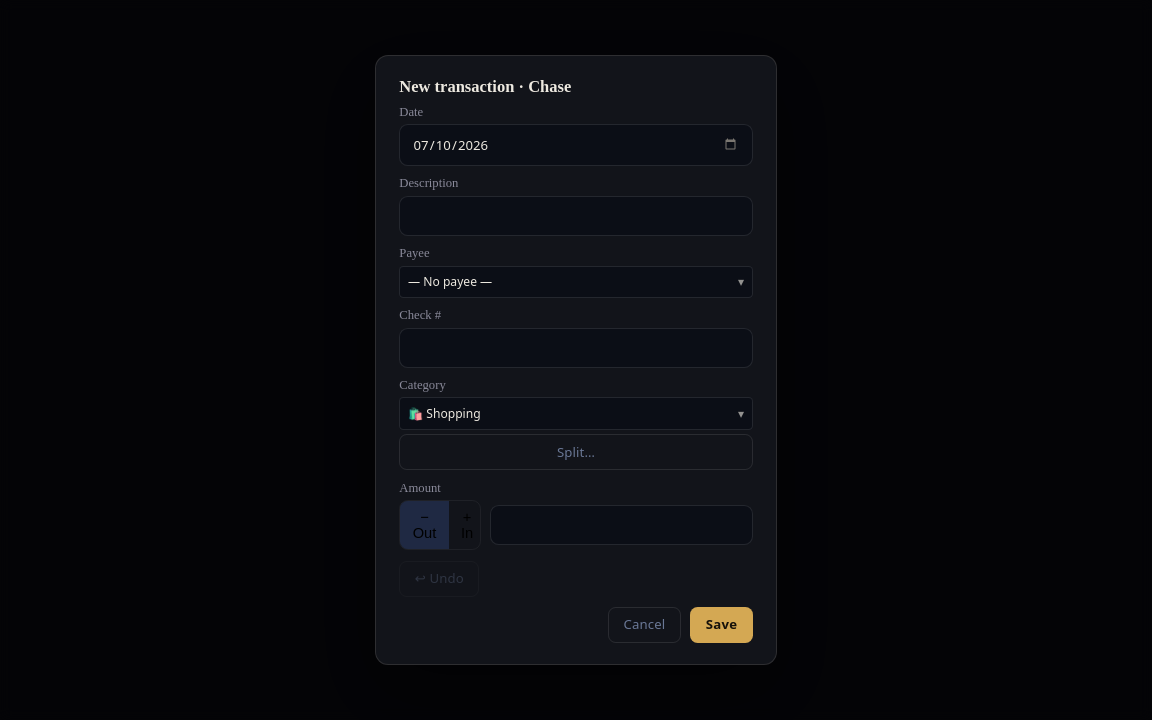
TransactionEditor split wire-up › opening Split, adding a line, then Done commits the split (amount becomes locked)
In the number field named "amount": (621,525) [490,505,753,545], type "100"
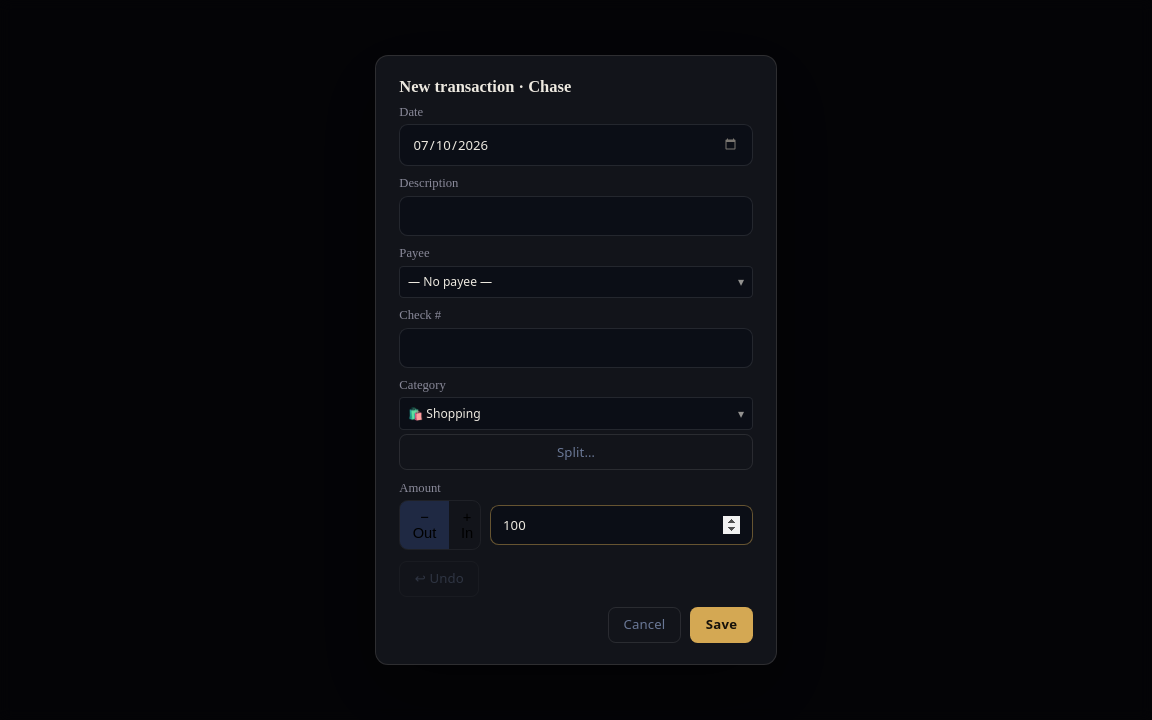
Click the button "Split…": (576,452) [399,434,753,470]
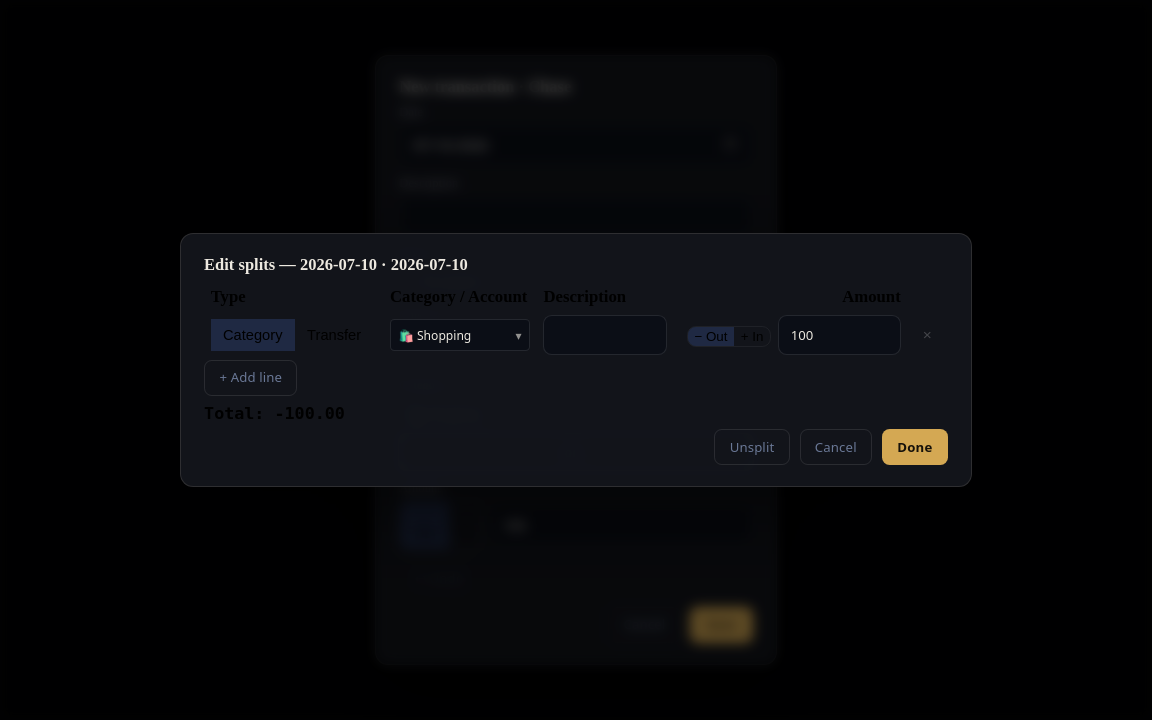
Click the button "+ Add line": (251,378) [204,360,298,396]
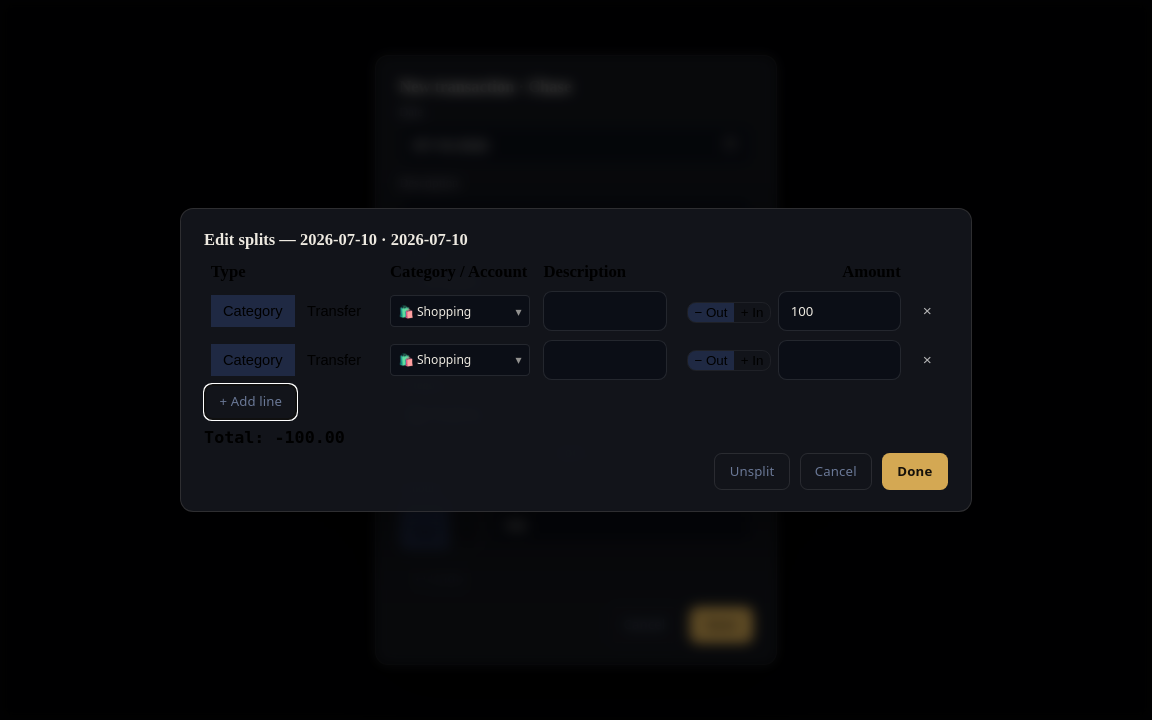
Click the button "Done": (915,472) [882,453,948,490]
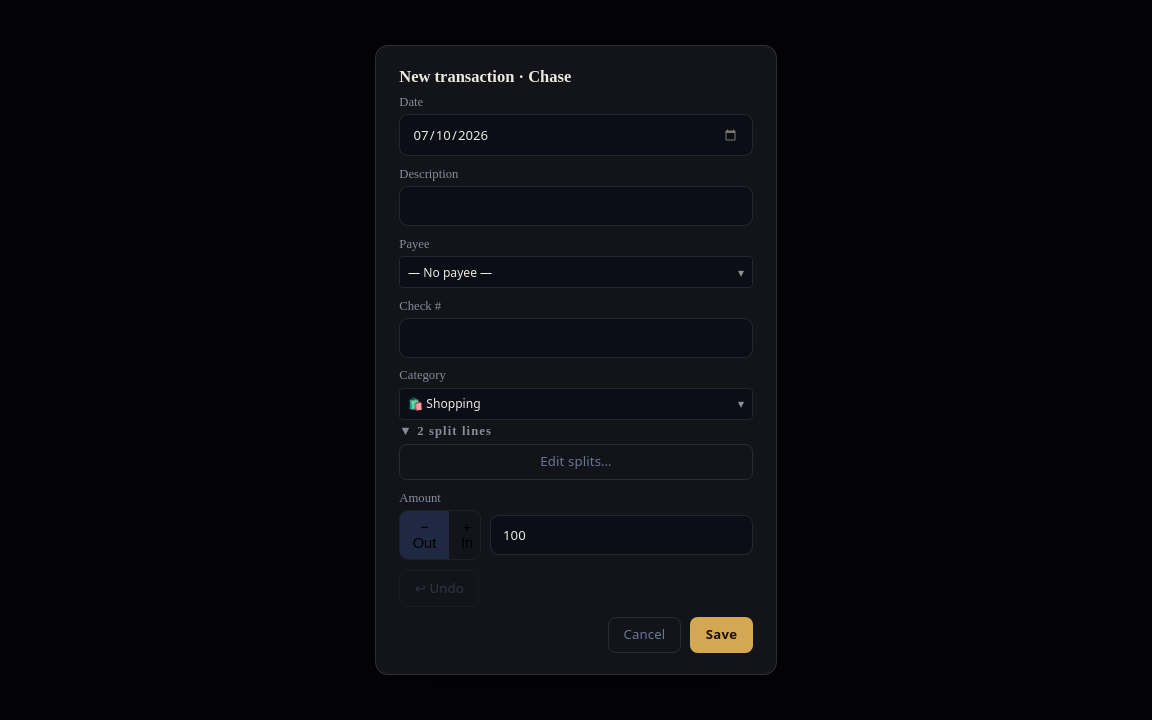
Result: the text "▼ 2 split lines" is shown at [399,424,492,438]
Result: the number field named "amount" is disabled at [490,515,753,555]
